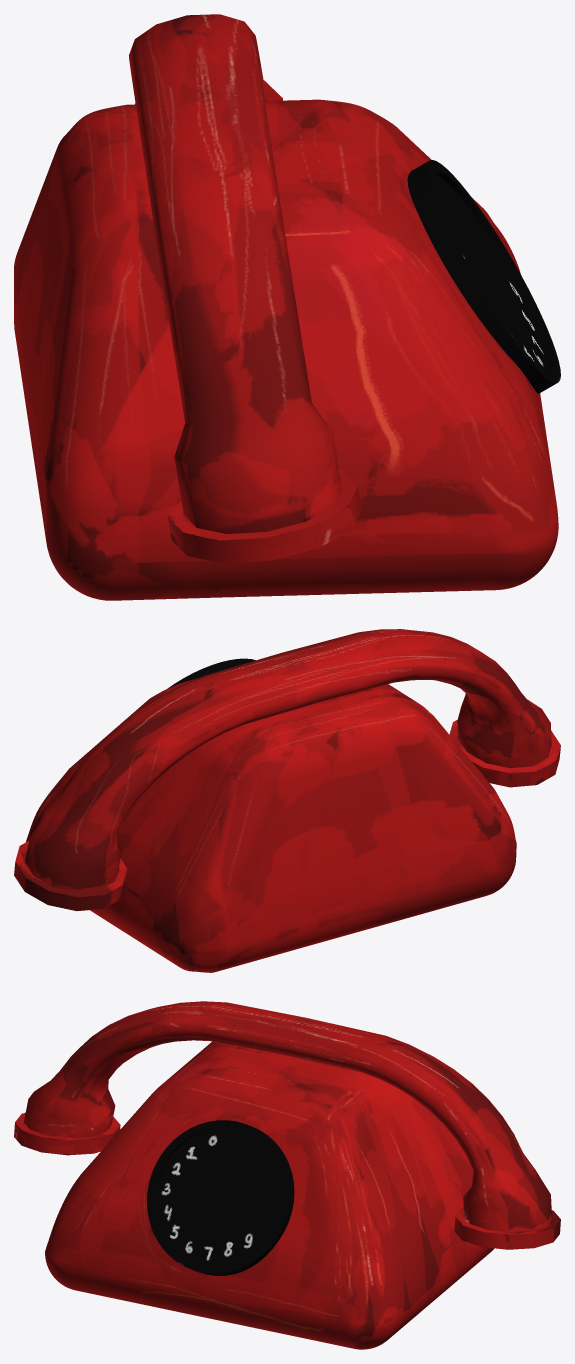
The model's file is phone.fbx.
3 renders of one model, top to bottom at view 1: azimuth 30°, elevation 25°; view 2: azimuth 150°, elevation 25°; view 3: azimuth 270°, elevation 25°, orthographic. The views are drawn at different scales.
Parts seen in each view (by area): view 1: Torus; view 2: Torus; view 3: Torus.
Boxes of the visible parts, x1=… form: Torus: x1=14, y1=14, x2=560, y2=600; Torus: x1=14, y1=629, x2=560, y2=972; Torus: x1=14, y1=1001, x2=560, y2=1349.
Size of the model in its own units: 27.27 by 16.55 by 35.2.
